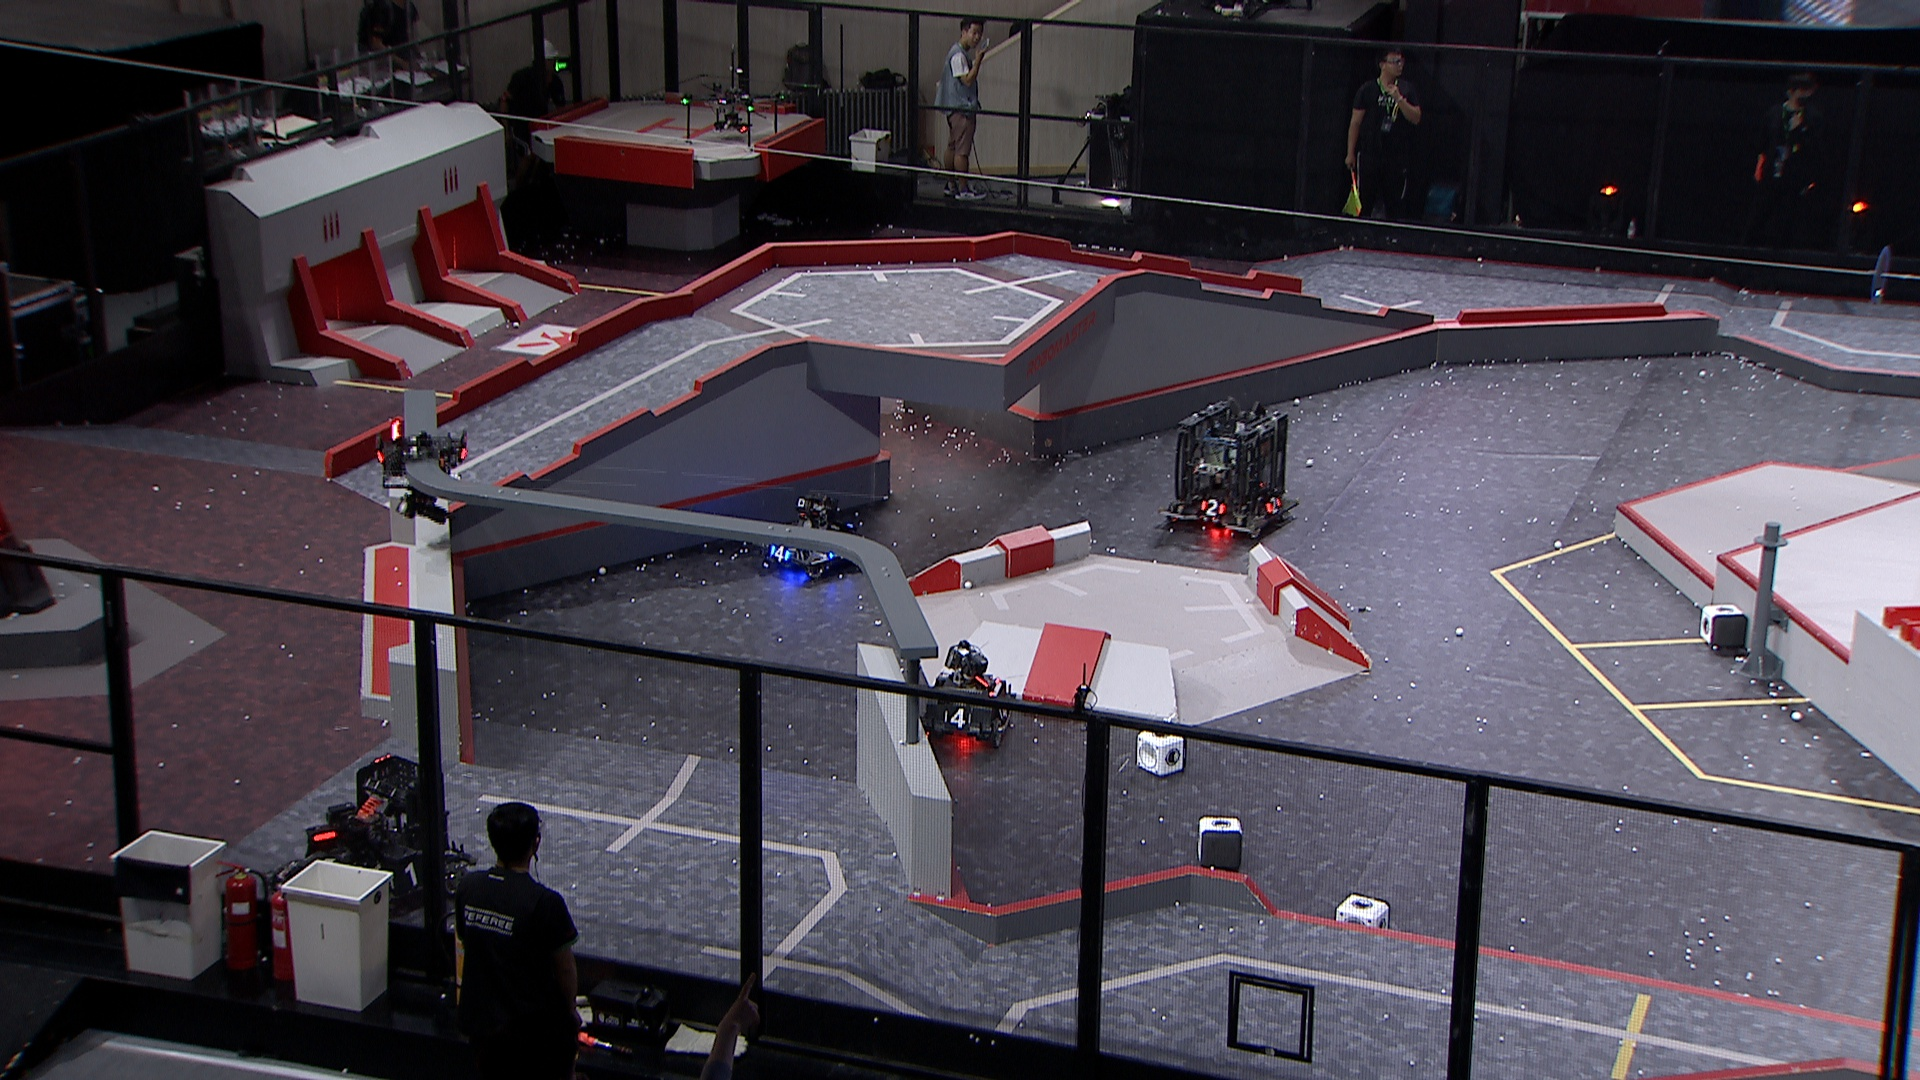armor: (386, 862, 422, 891), (944, 708, 973, 731), (767, 543, 793, 564), (1201, 498, 1228, 517), (1265, 496, 1283, 516)
car: (273, 756, 480, 920), (1156, 400, 1300, 541), (754, 488, 872, 582), (916, 637, 1013, 749)
watcher: (376, 419, 469, 527)
